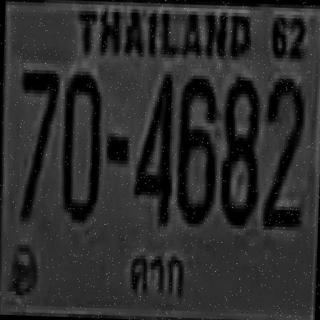N00: (58, 68, 100, 220)
N02: (262, 74, 304, 224)
N04: (132, 70, 174, 222)
N06: (174, 71, 217, 221)
N07: (16, 66, 58, 218)
N08: (219, 73, 259, 222)
P69: (120, 238, 194, 308)
